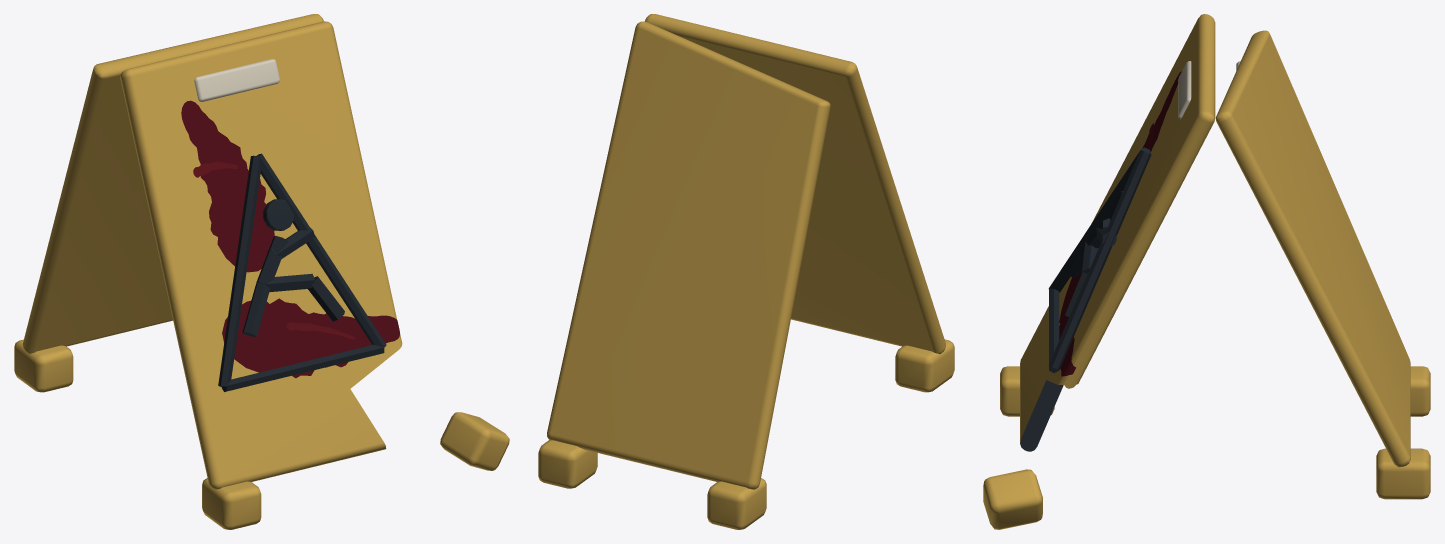
File: wet_floor_sign.glb
The picture shows the model from 3 angles, left to right: view 1: azimuth 30°, elevation 25°; view 2: azimuth 150°, elevation 25°; view 3: azimuth 270°, elevation 25°; orthographic projection.
Parts seen in each view (by area): view 1: Outbreak_Utility_Wet_Floor_Sign_Static; view 2: Outbreak_Utility_Wet_Floor_Sign_Static; view 3: Outbreak_Utility_Wet_Floor_Sign_Static.
Boxes of the visible parts, x1,y1,x2,y2 form: Outbreak_Utility_Wet_Floor_Sign_Static: (14,14,509,529); Outbreak_Utility_Wet_Floor_Sign_Static: (538,14,954,529); Outbreak_Utility_Wet_Floor_Sign_Static: (983,14,1430,529).
Size of the model in its own units: 0.4846 by 0.6365 by 0.6639.
